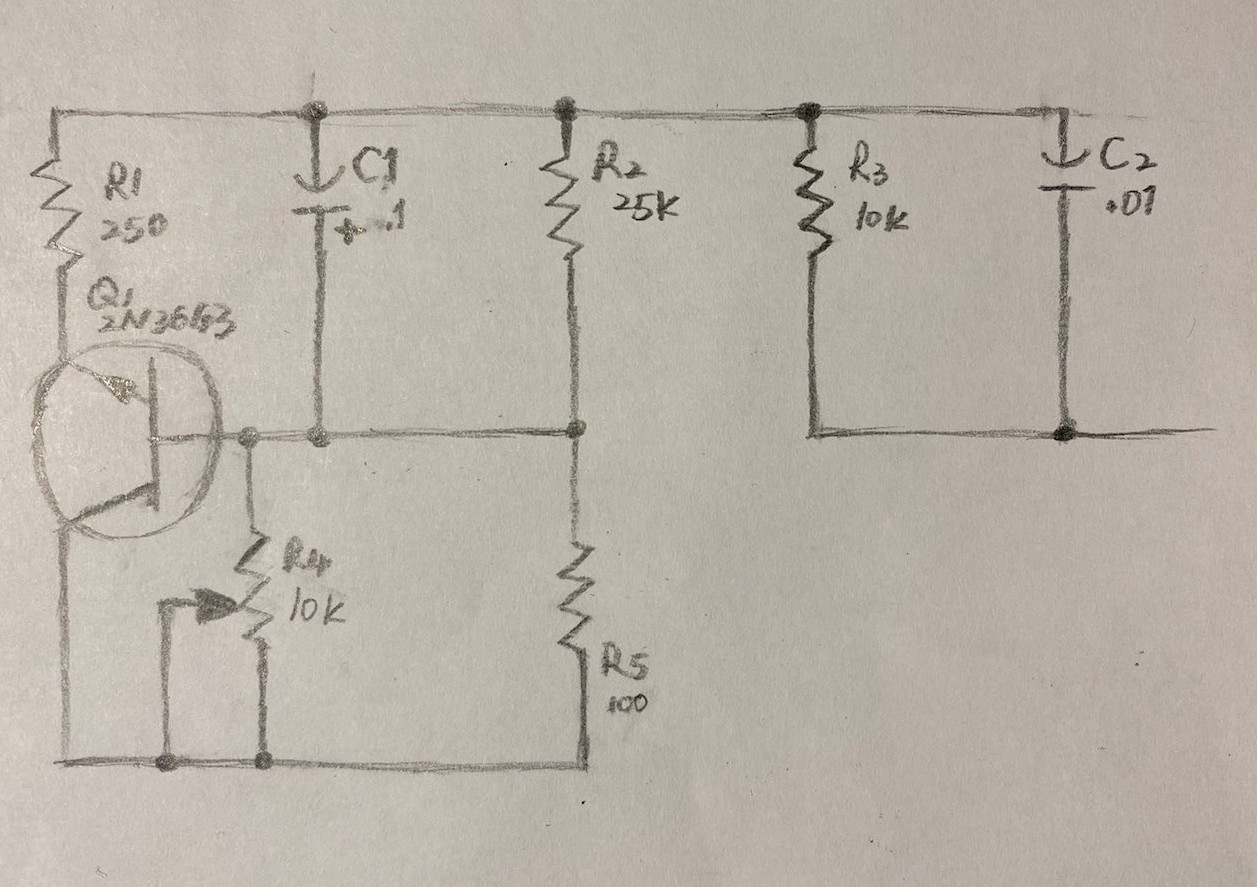capacitor.polarized: (289, 162, 369, 246)
capacitor.unpolarized: (1034, 145, 1098, 198)
junction: (283, 85, 342, 136), (539, 84, 595, 132), (784, 89, 837, 133), (1042, 406, 1086, 456), (550, 407, 598, 452), (557, 739, 602, 787), (295, 413, 344, 457), (146, 582, 185, 636), (142, 742, 187, 785), (786, 411, 833, 451), (36, 90, 76, 129), (230, 417, 268, 458), (42, 742, 82, 780), (1043, 89, 1079, 127), (245, 742, 280, 779)
resistor: (28, 150, 88, 277), (790, 140, 840, 267), (552, 531, 596, 667), (536, 151, 588, 265)
resistor.adjustable: (189, 522, 276, 654)
terminal: (1178, 415, 1231, 453)
text: (98, 306, 240, 340), (284, 584, 351, 630), (590, 137, 650, 187), (279, 531, 340, 580), (612, 187, 683, 229), (97, 211, 179, 247), (1097, 130, 1160, 173), (598, 637, 655, 684), (1104, 182, 1166, 225), (848, 137, 893, 191), (352, 142, 402, 189), (854, 199, 911, 240), (98, 156, 147, 202), (76, 277, 140, 309), (603, 691, 661, 725), (383, 197, 425, 240)
transistor: (16, 341, 225, 544)
